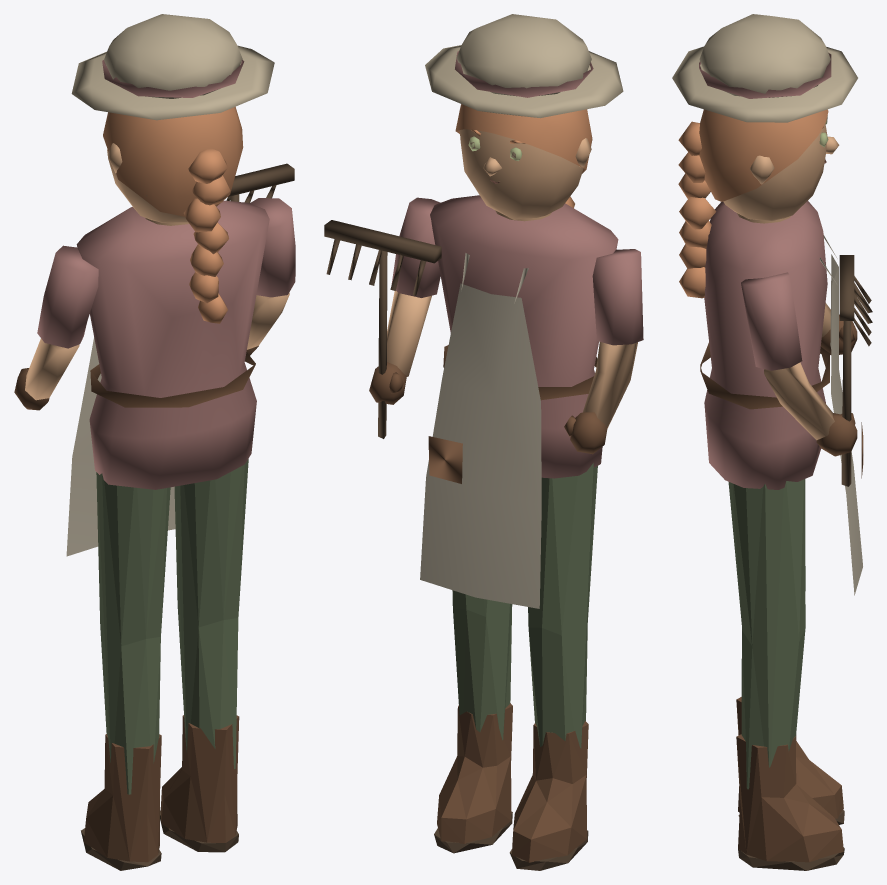
The model's file is SM_NPC_FLORA_MEDIA.glb.
The picture shows the model from 3 angles, left to right: view 1: azimuth 30°, elevation 25°; view 2: azimuth 150°, elevation 25°; view 3: azimuth 270°, elevation 25°; orthographic projection. The views are drawn at different scales.
Parts seen in each view (by area): view 1: SM_NPC_FLORA_BODY, SM_NPC_FLORA_HEAD, SM_NPC_FLORA_ARM_L, SM_NPC_FLORA_ARM_R; view 2: SM_NPC_FLORA_BODY, SM_NPC_FLORA_HEAD, SM_NPC_FLORA_ARM_R, SM_NPC_FLORA_ARM_L; view 3: SM_NPC_FLORA_BODY, SM_NPC_FLORA_HEAD, SM_NPC_FLORA_ARM_R, SM_NPC_FLORA_ARM_L.
Boxes of the visible parts, box(x1,y1,x2,y2) form: SM_NPC_FLORA_BODY: box(66, 200, 269, 870); SM_NPC_FLORA_HEAD: box(71, 14, 274, 323); SM_NPC_FLORA_ARM_L: box(14, 245, 98, 410); SM_NPC_FLORA_ARM_R: box(226, 163, 295, 355); SM_NPC_FLORA_BODY: box(420, 195, 618, 870); SM_NPC_FLORA_HEAD: box(425, 14, 623, 219); SM_NPC_FLORA_ARM_R: box(324, 197, 441, 438); SM_NPC_FLORA_ARM_L: box(564, 249, 643, 454); SM_NPC_FLORA_BODY: box(700, 201, 863, 870); SM_NPC_FLORA_HEAD: box(672, 14, 857, 298); SM_NPC_FLORA_ARM_R: box(741, 255, 872, 486); SM_NPC_FLORA_ARM_L: box(820, 303, 857, 354).
Bounding box in the file's own units: 0.6789 × 1.89 × 0.4215.
